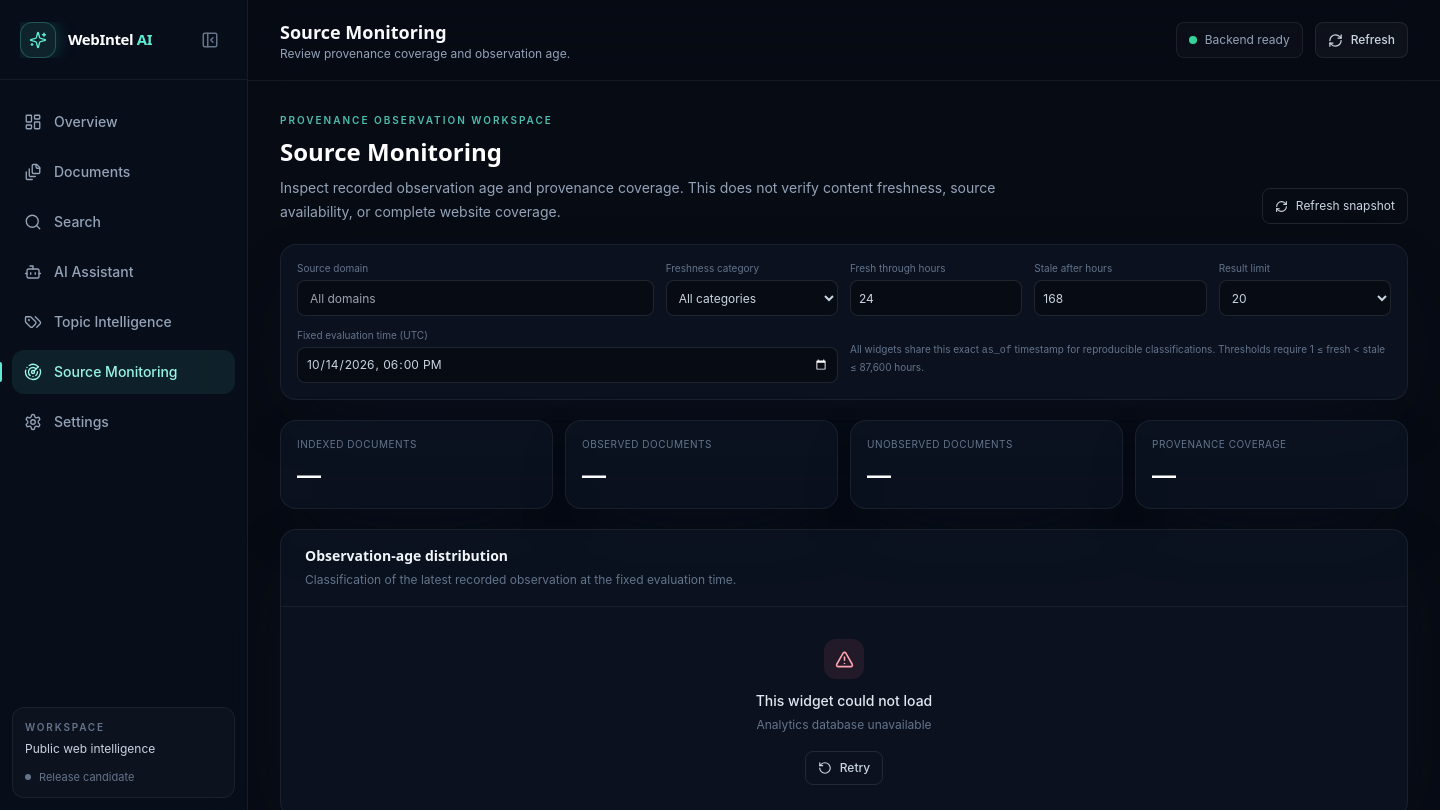
Test: MonitoringPage › shows empty records and retries an independently failed widget
The width and height of the screenshot is (1440, 810).
Expected: the text "This widget could not load" is shown, [756,691,932,711]
Click the button "Retry": [844, 768] box [805,751,883,785]
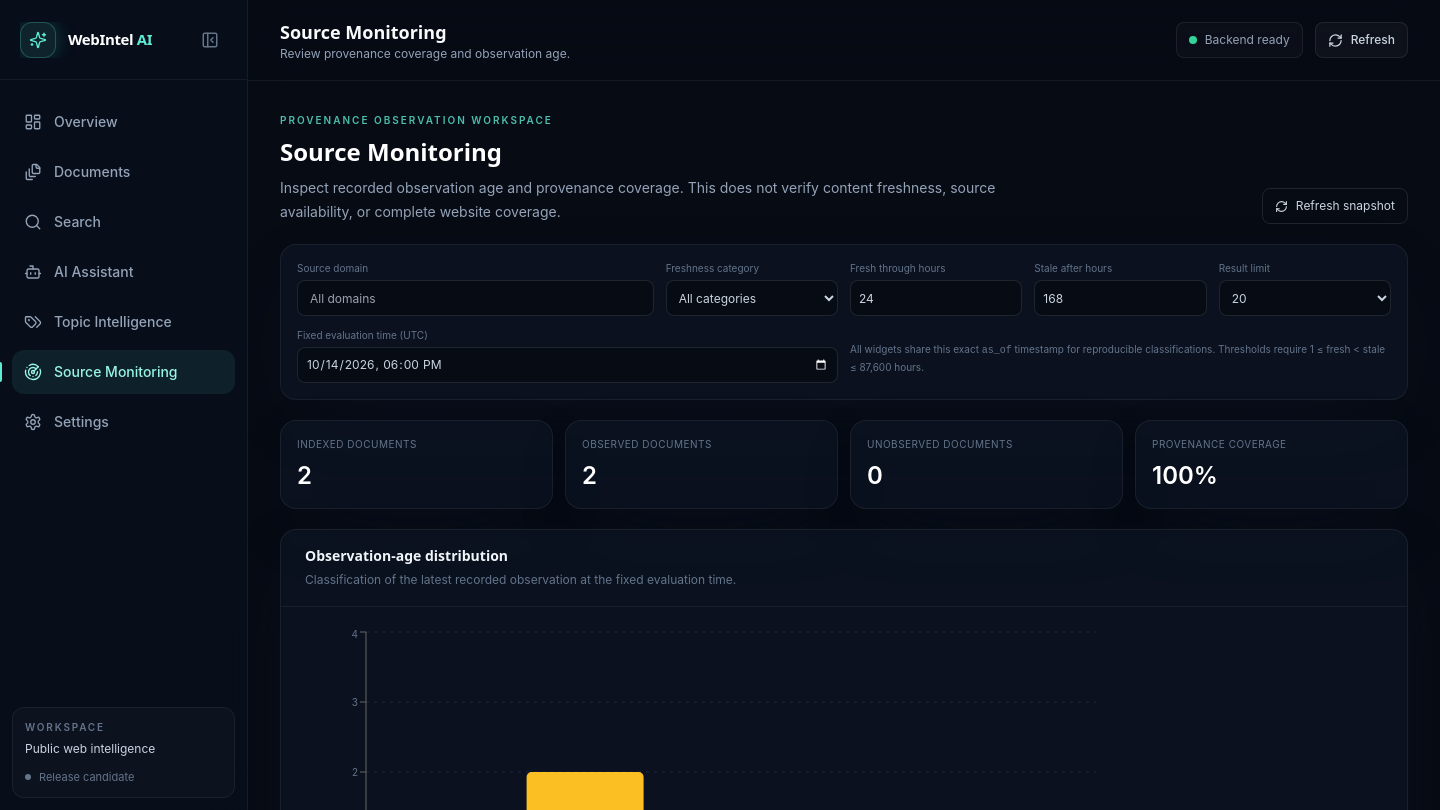
Result: the text "100%" is shown at [1152,461,1218,490]
